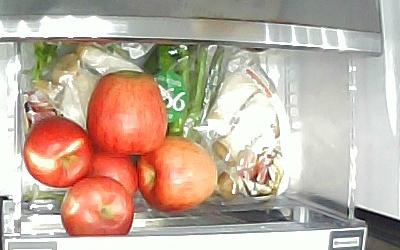apple: (86, 70, 168, 155), (137, 137, 218, 213), (21, 118, 92, 188), (61, 177, 133, 238), (86, 151, 137, 198)
